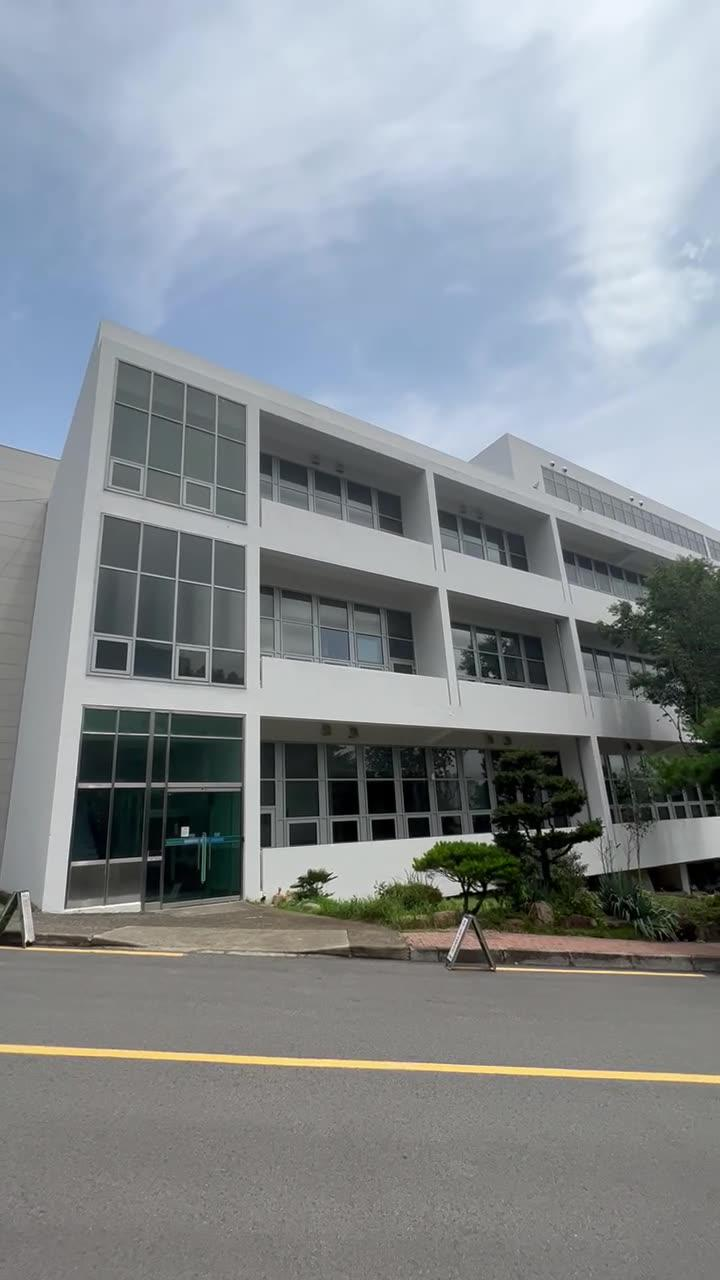building: (16, 328, 618, 836)
